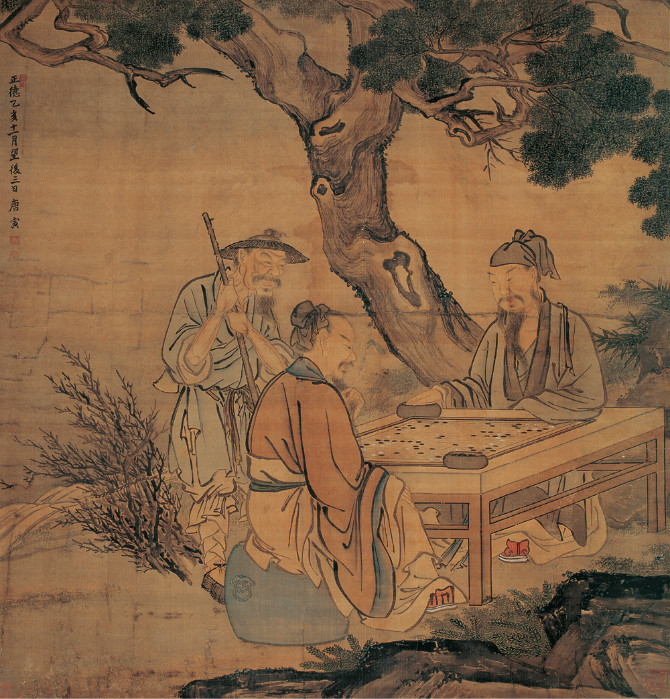chessboard: (373, 408, 657, 477), (460, 477, 496, 598), (649, 478, 670, 537)
man: (167, 234, 305, 554), (485, 243, 598, 414), (364, 475, 458, 612), (314, 317, 355, 583), (423, 378, 487, 409)
tree: (365, 10, 643, 169), (10, 1, 344, 77), (313, 125, 403, 271), (376, 271, 460, 365), (646, 92, 670, 230), (269, 86, 361, 122)
